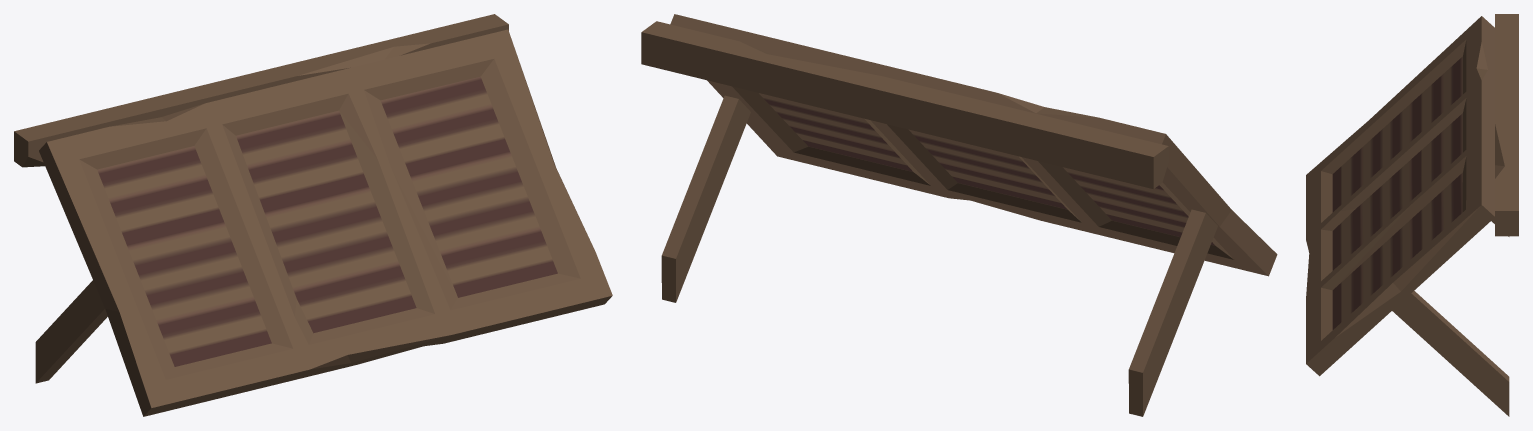
Rendered from SM_Bld_Window_Shutter_03.glb.
The picture shows the model from 3 angles, left to right: view 1: azimuth 30°, elevation 25°; view 2: azimuth 150°, elevation 25°; view 3: azimuth 270°, elevation 25°; orthographic projection. The views are drawn at different scales.
Parts seen in each view (by area): view 1: SM_Bld_Window_Shutter_03; view 2: SM_Bld_Window_Shutter_03; view 3: SM_Bld_Window_Shutter_03.
Part boxes in pixels (x1,y1,x2,y2): SM_Bld_Window_Shutter_03: (14, 14, 612, 416); SM_Bld_Window_Shutter_03: (641, 14, 1277, 416); SM_Bld_Window_Shutter_03: (1306, 14, 1518, 416).
Size of the model in its own units: 2.43 by 1.23 by 1.11.
Materials: 1 (1 with a texture image).
